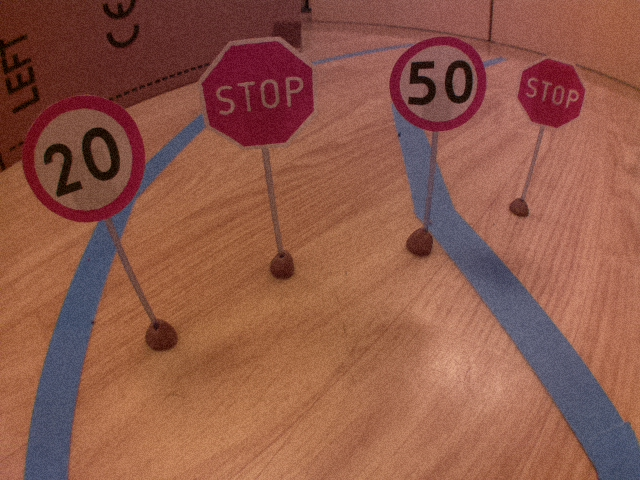ogr_20: (17, 92, 150, 228)
ogr_50: (385, 34, 491, 136)
stop: (195, 34, 321, 152), (513, 53, 591, 132)
